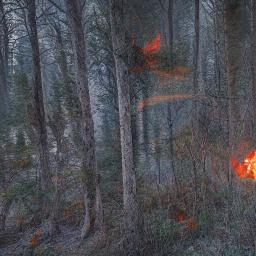Small fire: (229, 147, 256, 184)
